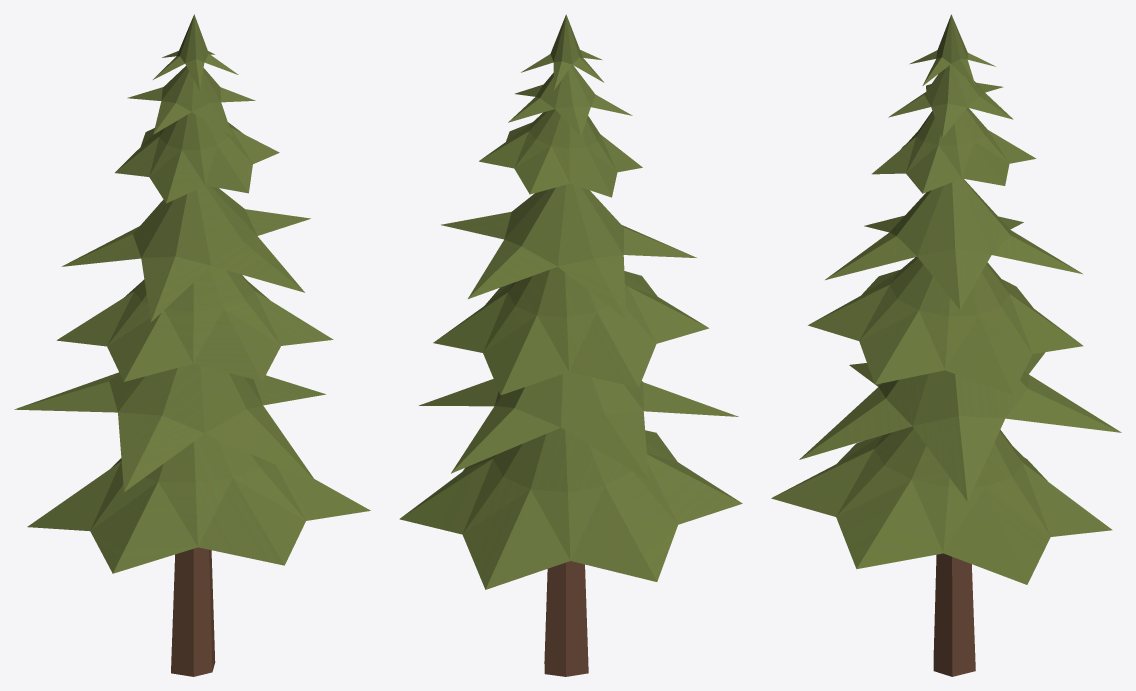
The model's file is Tree_1.fbx.
3 renders of one model, left to right at view 1: azimuth 30°, elevation 25°; view 2: azimuth 150°, elevation 25°; view 3: azimuth 270°, elevation 25°, orthographic.
Visible parts, largest first — view 1: polySurface10365; view 2: polySurface10365; view 3: polySurface10365.
Boxes of the visible parts, left/top/right/bottom form: polySurface10365: left=14, top=14, right=370, bottom=676; polySurface10365: left=399, top=14, right=742, bottom=676; polySurface10365: left=771, top=14, right=1121, bottom=676.
Bounding box in the file's own units: 131 × 302 × 147.
